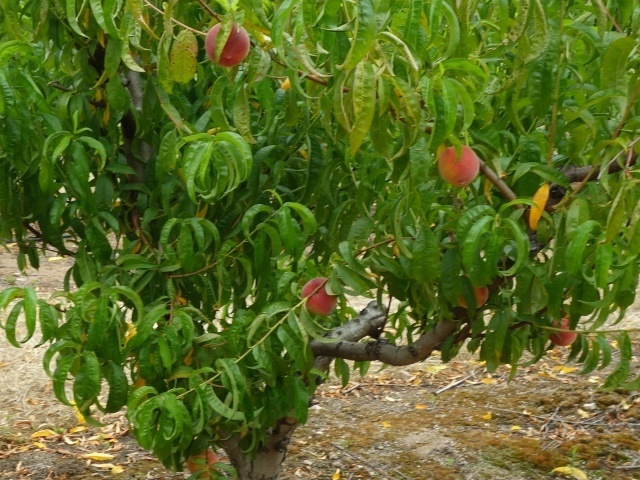peach: (201, 17, 254, 72), (433, 139, 482, 192), (299, 275, 340, 320), (456, 276, 492, 315), (549, 314, 581, 345)
